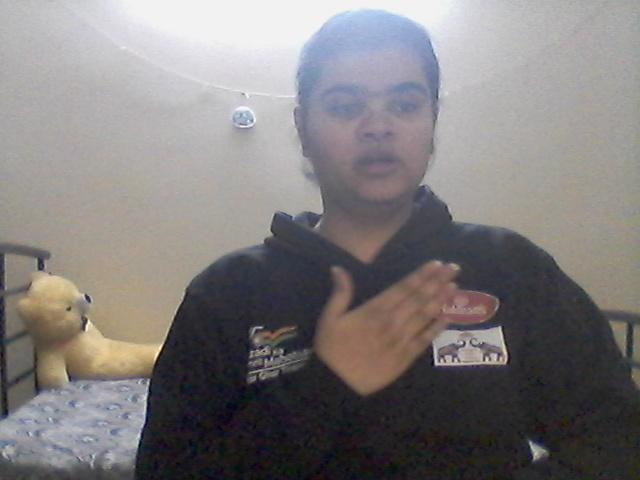please: (306, 259, 465, 406)
